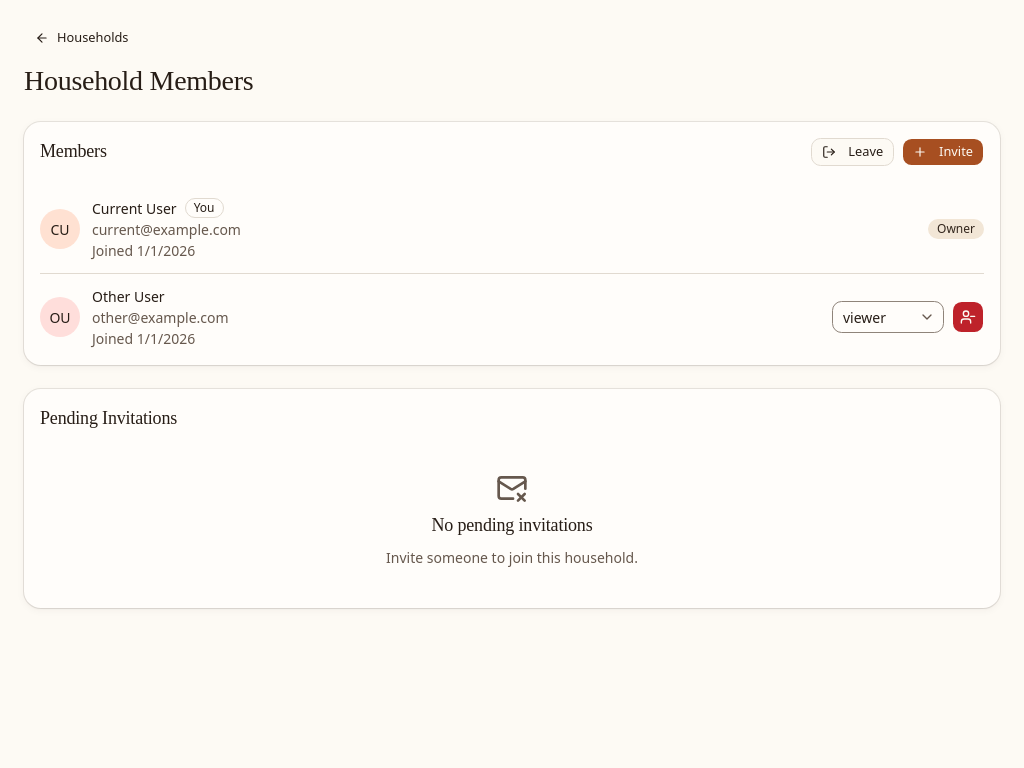
Scenario: HouseholdMembersPage › opens remove confirmation dialog from the named remove button
Click the button named "Remove Other User". click: (968, 317)
box: [952,301,984,333]
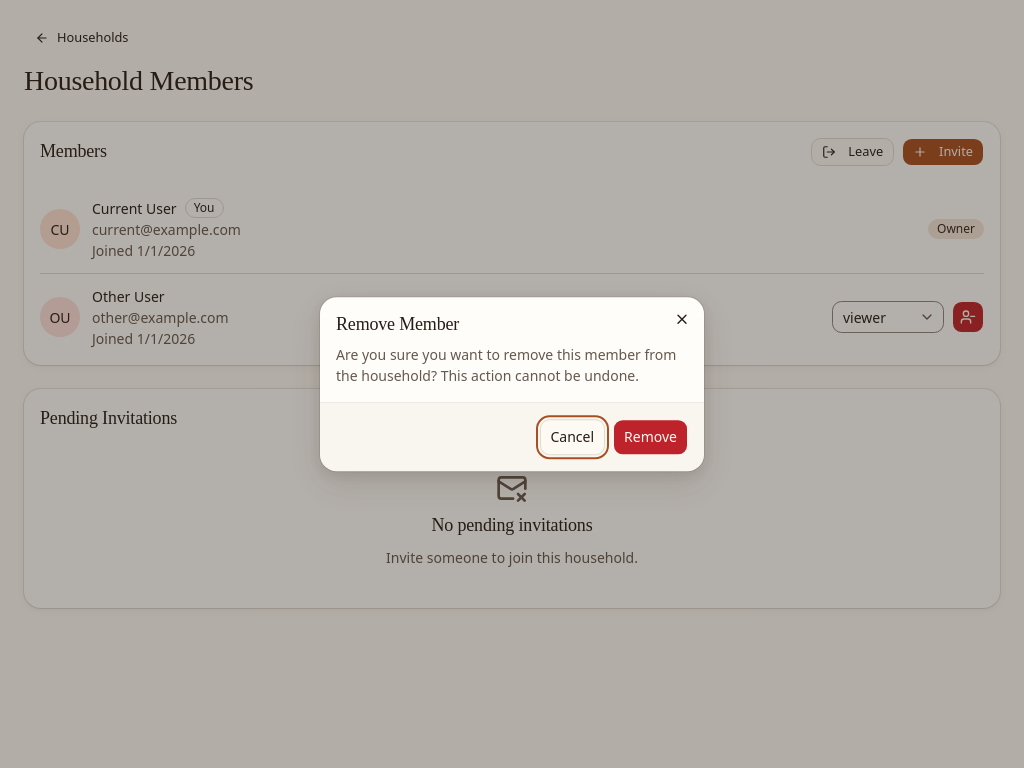
Result: the dialog "Remove Member" is shown at [320,297,704,471]
